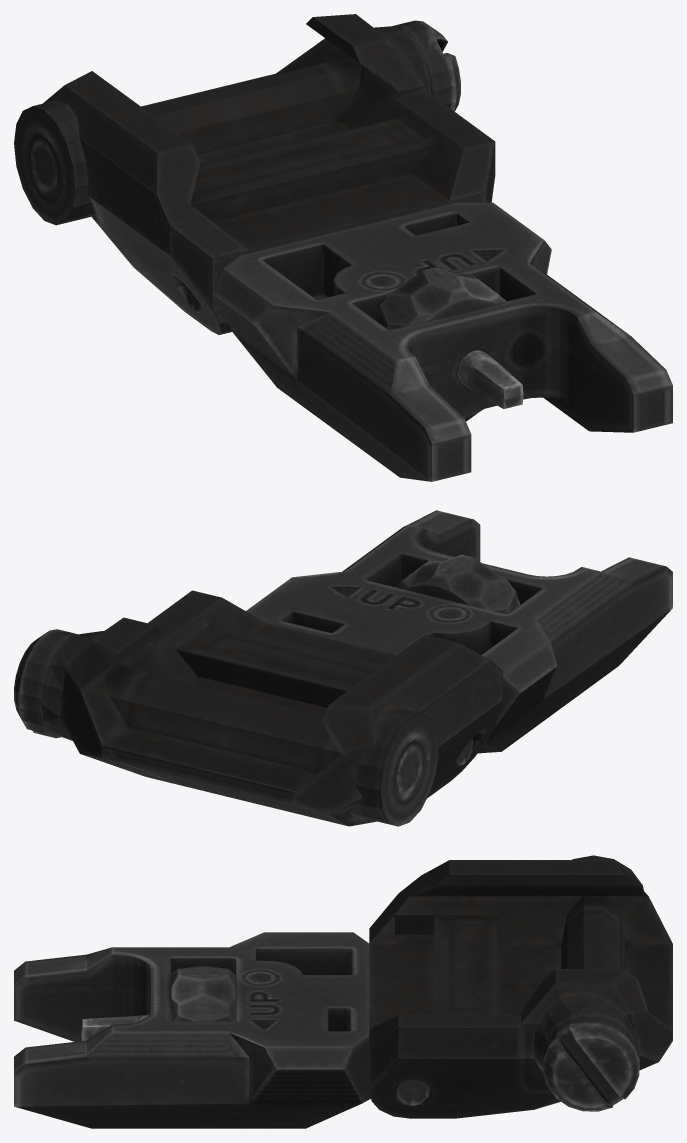
3 renders of one model, top to bottom at view 1: azimuth 30°, elevation 25°; view 2: azimuth 150°, elevation 25°; view 3: azimuth 270°, elevation 25°, orthographic. The views are drawn at different scales.
Parts seen in each view (by area): view 1: TW_5fb6567747ce63734e3fa1dc_folded_PZ_Import; view 2: TW_5fb6567747ce63734e3fa1dc_folded_PZ_Import; view 3: TW_5fb6567747ce63734e3fa1dc_folded_PZ_Import.
Boxes of the visible parts, x1,y1,x2,y2 form: TW_5fb6567747ce63734e3fa1dc_folded_PZ_Import: [14, 14, 672, 481]; TW_5fb6567747ce63734e3fa1dc_folded_PZ_Import: [14, 510, 672, 826]; TW_5fb6567747ce63734e3fa1dc_folded_PZ_Import: [14, 855, 672, 1128].
Bounding box in the file's own units: 0.0183 × 0.0304 × 0.00857.
1 material, 1 textured.
